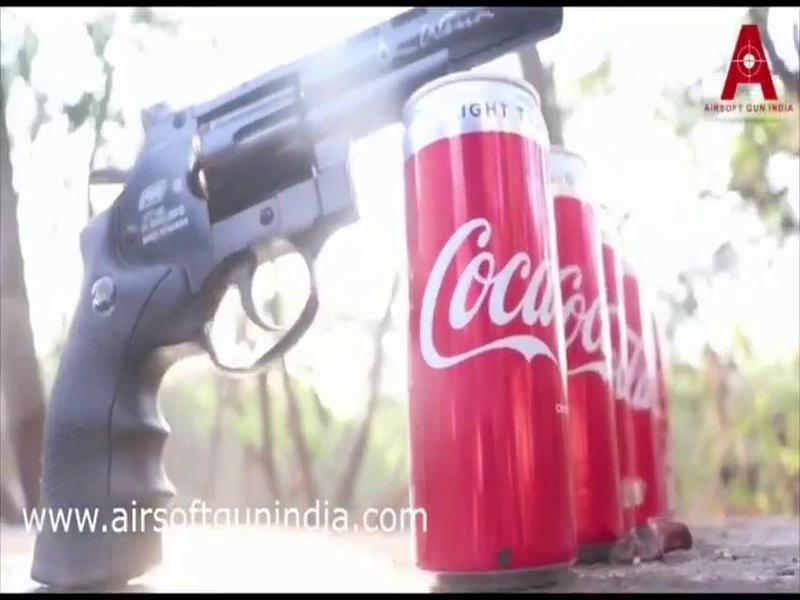Revolver: (3, 1, 647, 570)
